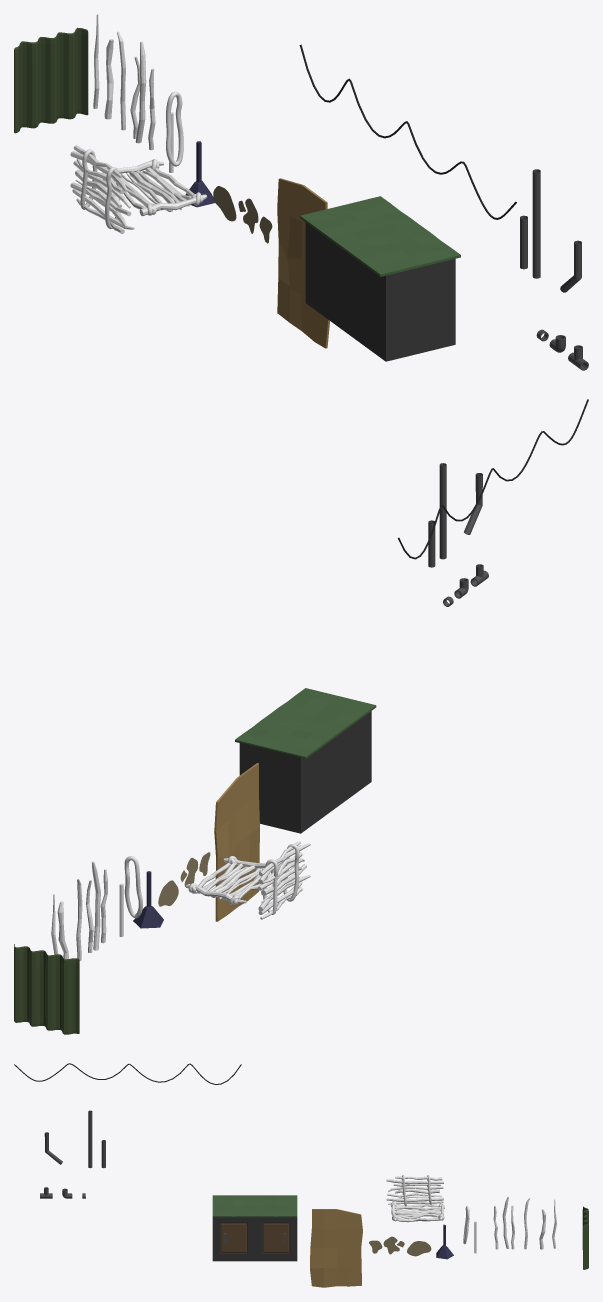
Rendered from BunchOfAssests.fbx.
3 renders of one model, top to bottom at view 1: azimuth 30°, elevation 25°; view 2: azimuth 150°, elevation 25°; view 3: azimuth 270°, elevation 25°, orthographic. The views are drawn at different scales.
Visible parts, largest first — view 1: CounterTop, Countertopsurface, CourigatedSteel, Cardboard, Messy stick board, Tidy stick board, Pipes.002, HangingWires, RopeLoop, Sticks.005, hanging light, Sticks.002 (+3 smaller); view 2: CounterTop, Countertopsurface, CourigatedSteel, Cardboard, Tidy stick board, Messy stick board; view 3: Cardboard, CounterTop, Countertopsurface, Messy stick board, Tidy stick board, HangingWires, CourigatedSteel.
Part boxes in pixels (x1=…): CounterTop: x1=305, y1=222, x2=455, y2=361; Countertopsurface: x1=300, y1=196, x2=460, y2=276; CourigatedSteel: x1=14, y1=27, x2=88, y2=133; Cardboard: x1=277, y1=178, x2=329, y2=348; Messy stick board: x1=70, y1=145, x2=134, y2=233; Tidy stick board: x1=100, y1=161, x2=206, y2=216; Pipes.002: x1=532, y1=169, x2=540, y2=278; HangingWires: x1=299, y1=44, x2=516, y2=219; RopeLoop: x1=166, y1=91, x2=183, y2=166; Sticks.005: x1=135, y1=41, x2=146, y2=143; hanging light: x1=185, y1=141, x2=214, y2=207; Sticks.002: x1=104, y1=39, x2=113, y2=119; CounterTop: x1=239, y1=711, x2=371, y2=833; Countertopsurface: x1=235, y1=688, x2=376, y2=758; CourigatedSteel: x1=14, y1=944, x2=79, y2=1034; Cardboard: x1=214, y1=763, x2=259, y2=921; Tidy stick board: x1=185, y1=858, x2=284, y2=903; Messy stick board: x1=257, y1=841, x2=310, y2=919; Cardboard: x1=310, y1=1209, x2=362, y2=1287; CounterTop: x1=212, y1=1217, x2=297, y2=1261; Countertopsurface: x1=212, y1=1195, x2=297, y2=1217; Messy stick board: x1=386, y1=1176, x2=443, y2=1206; Tidy stick board: x1=391, y1=1201, x2=444, y2=1222; HangingWires: x1=14, y1=1063, x2=241, y2=1084; CourigatedSteel: x1=582, y1=1206, x2=588, y2=1269.
Bounding box in the file's own units: 250 × 521 × 1356.
